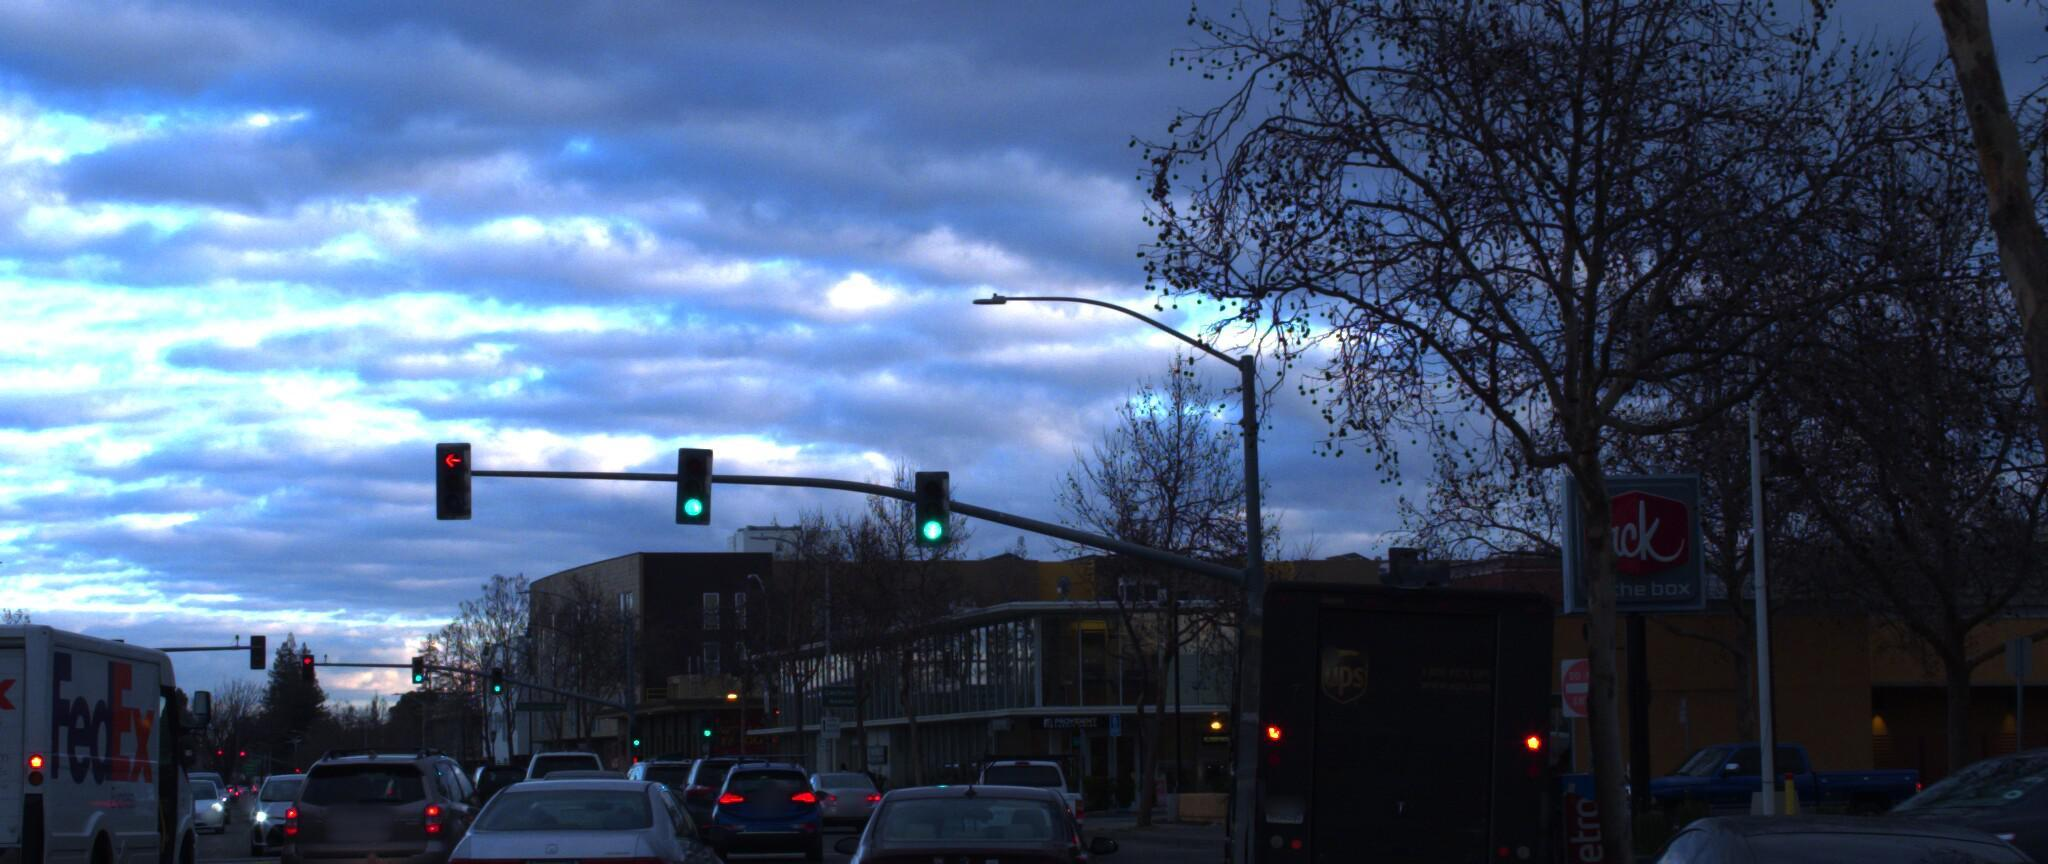car: (1496, 779, 2048, 864), (1558, 714, 1919, 838), (1800, 707, 2048, 864), (811, 761, 1115, 864), (431, 765, 734, 864), (274, 741, 509, 864), (953, 733, 1084, 856), (515, 761, 644, 864), (701, 752, 831, 854), (243, 750, 353, 842), (785, 747, 889, 820), (603, 740, 695, 809), (0, 774, 29, 864)
truck: (1202, 556, 1591, 864), (0, 600, 225, 864)
